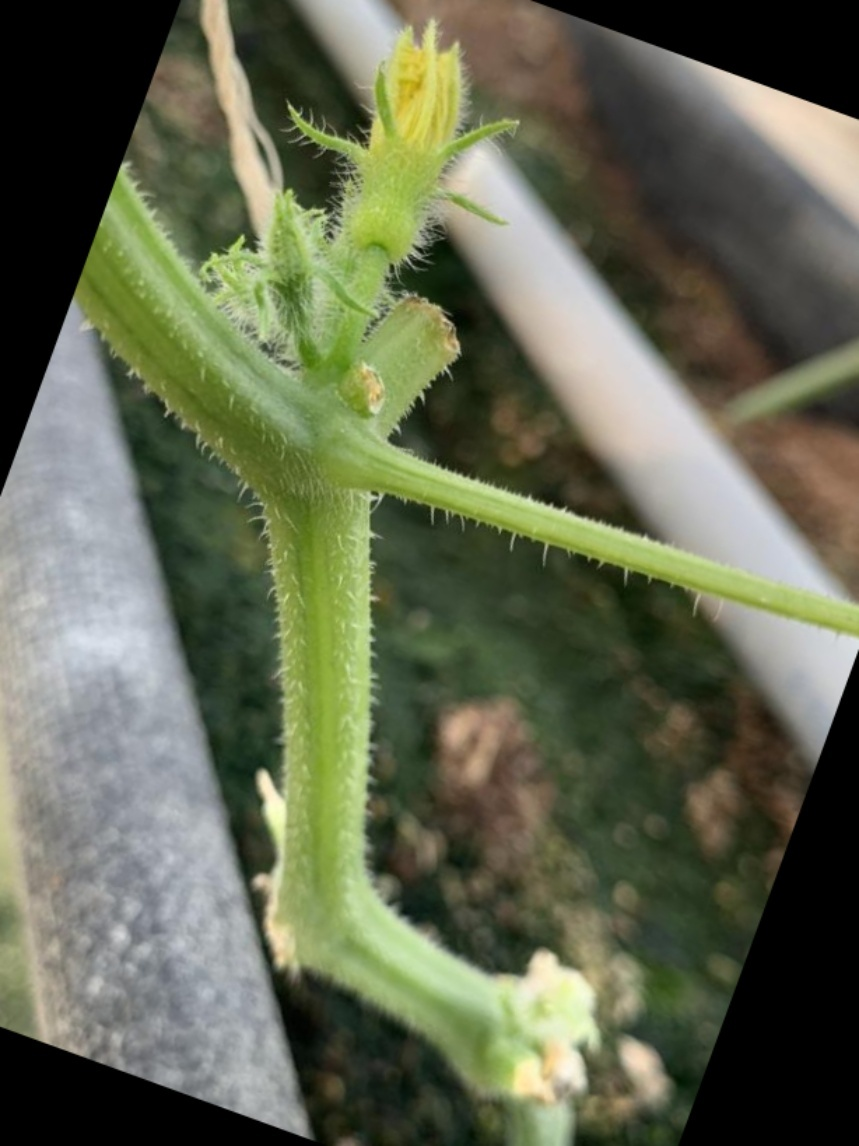bud: (298, 8, 516, 287)
